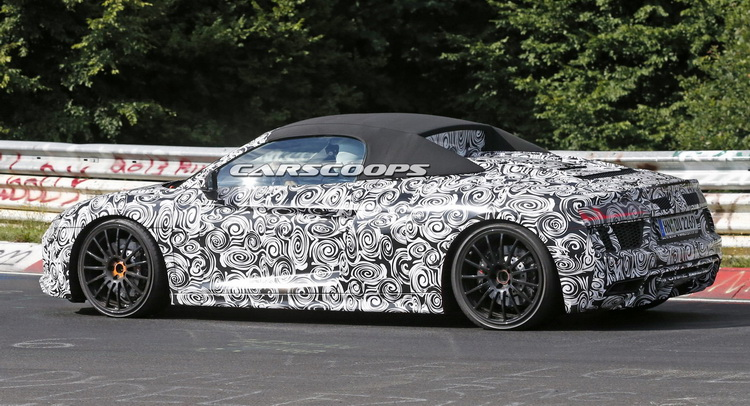front_view: (3, 160, 311, 298)
headlight: (173, 176, 294, 224)
side_glass: (382, 14, 536, 119)
